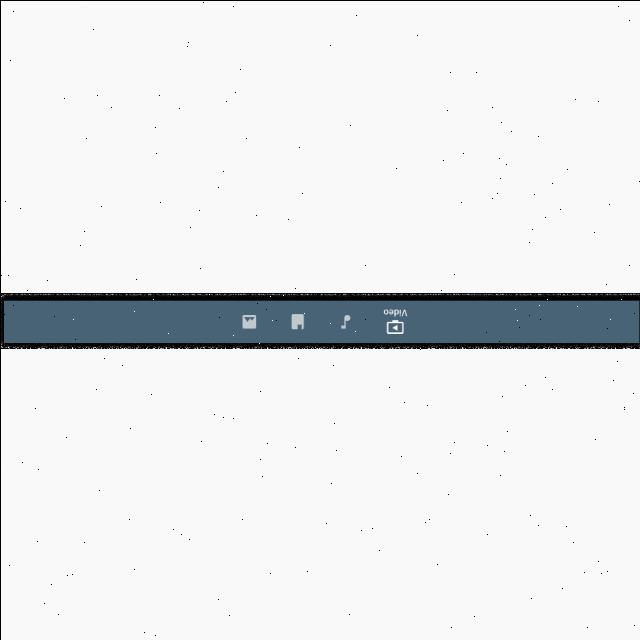QLabel: (383, 307, 407, 315)
VBottomNavigation: (2, 297, 640, 343)
VIcon: (386, 318, 404, 334), (240, 312, 256, 330), (290, 312, 304, 328), (340, 314, 350, 328)
